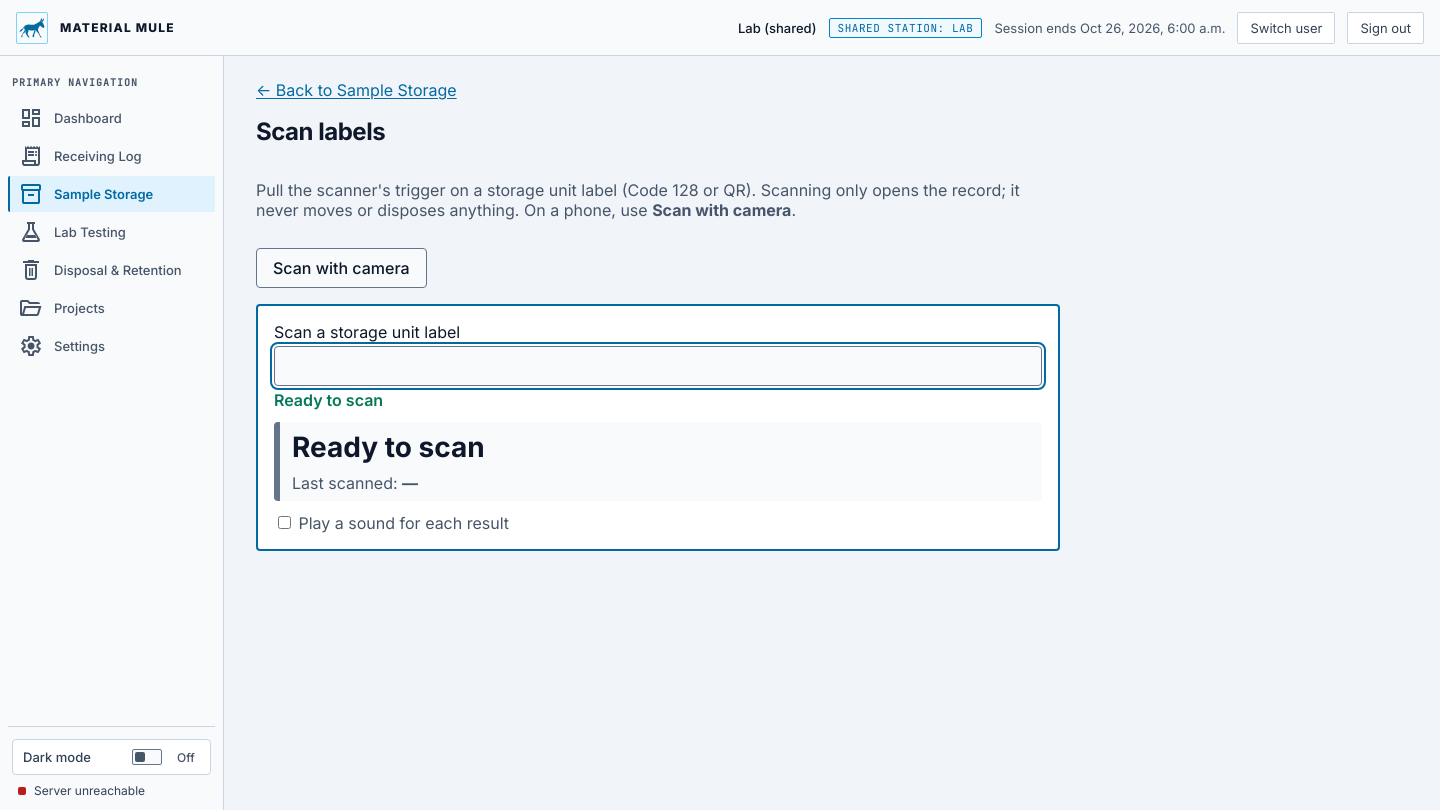
Test: Scan labels page (MM-T16 lookup mode) › AC5: server unreachable keeps the value on screen with Retry
Expected: the heading "Scan labels" is shown, 256,116 -> 385,148
Type keys "BKT-2026-000014{Enter}"
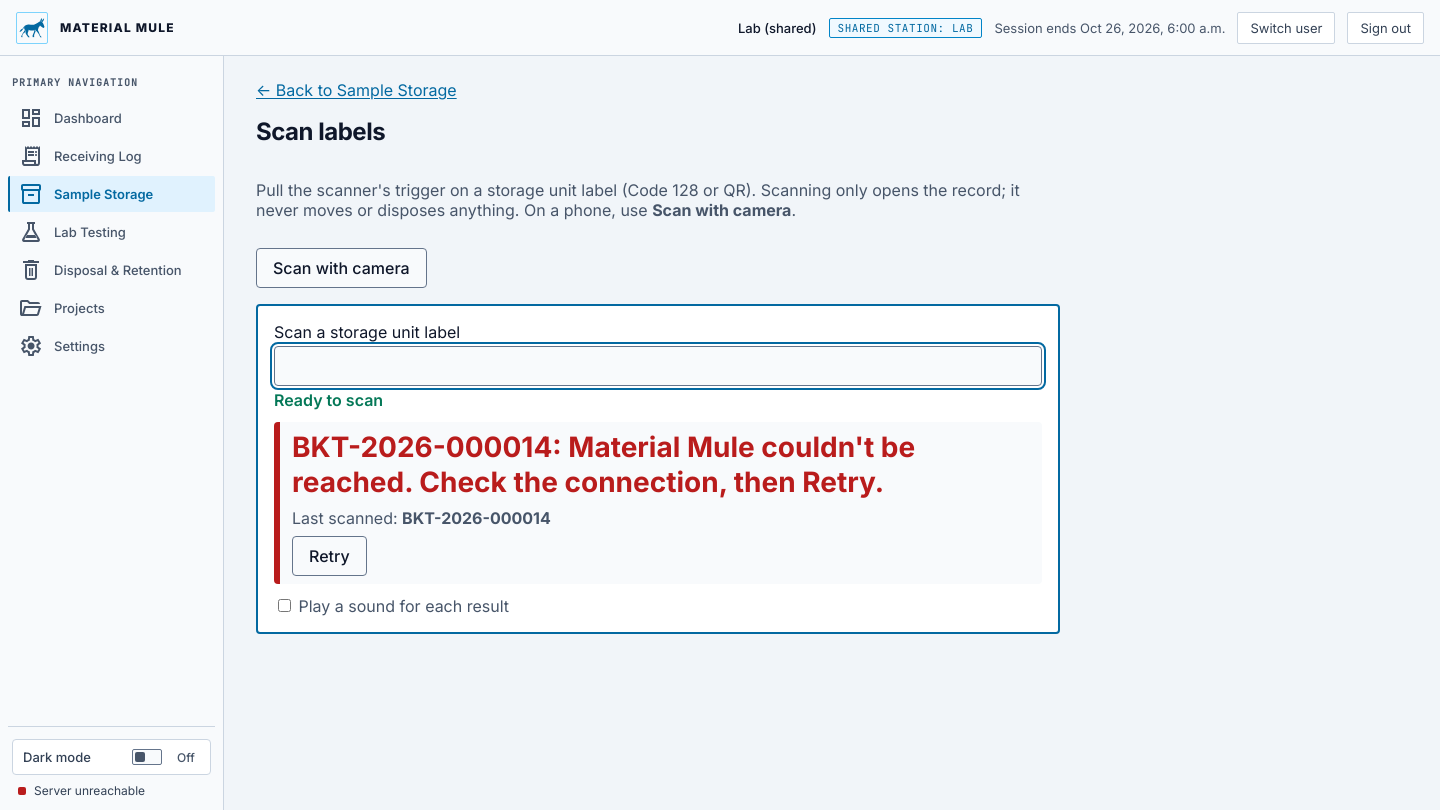
Expected: the message shows "BKT-2026-000014: Material Mule couldn't be reached", 292,430 -> 915,499
Expected: the text "BKT-2026-000014" is shown, 402,508 -> 551,528
Click the button "Retry" at (329, 556), box 292,536 -> 367,576
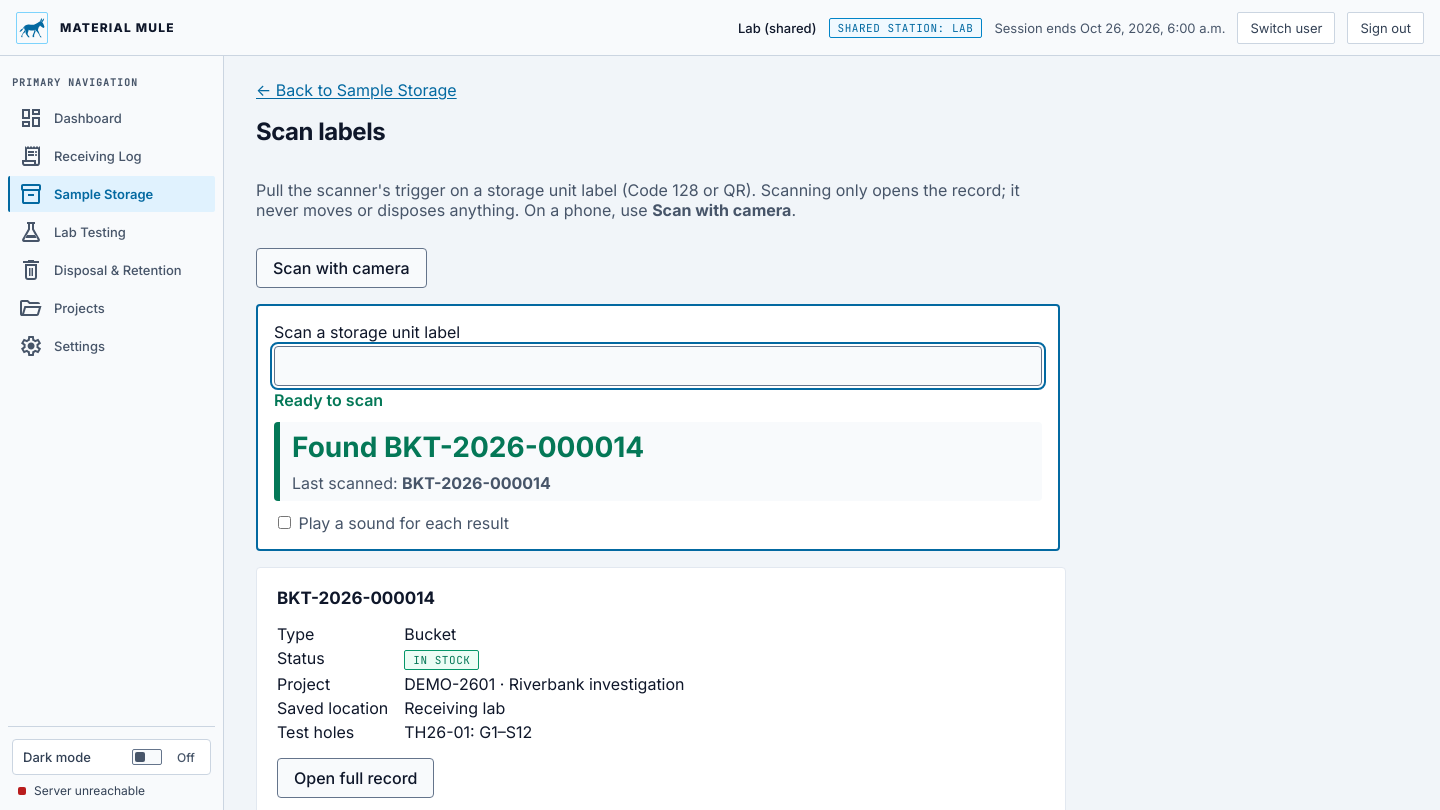
Expected: the text "Found BKT-2026-000014" is shown, 292,430 -> 644,464
